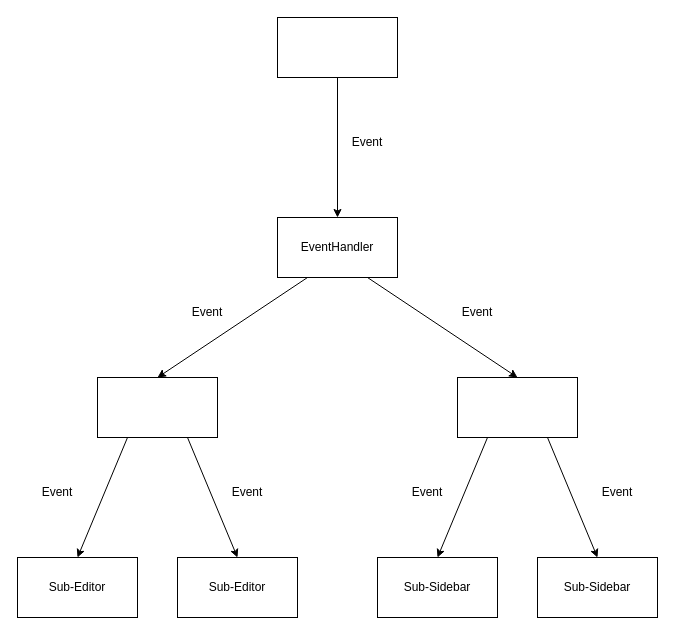
Image size: 675x635. Some labels were removed from this diagram. The shapes that lost their labels are listed below. From the top down, each one's box as (x1, y1, x2, y2) in pixels, then its label:
(276, 16, 398, 78): Incoming events from window
(96, 376, 218, 438): Editor
(456, 376, 578, 438): SideBar
